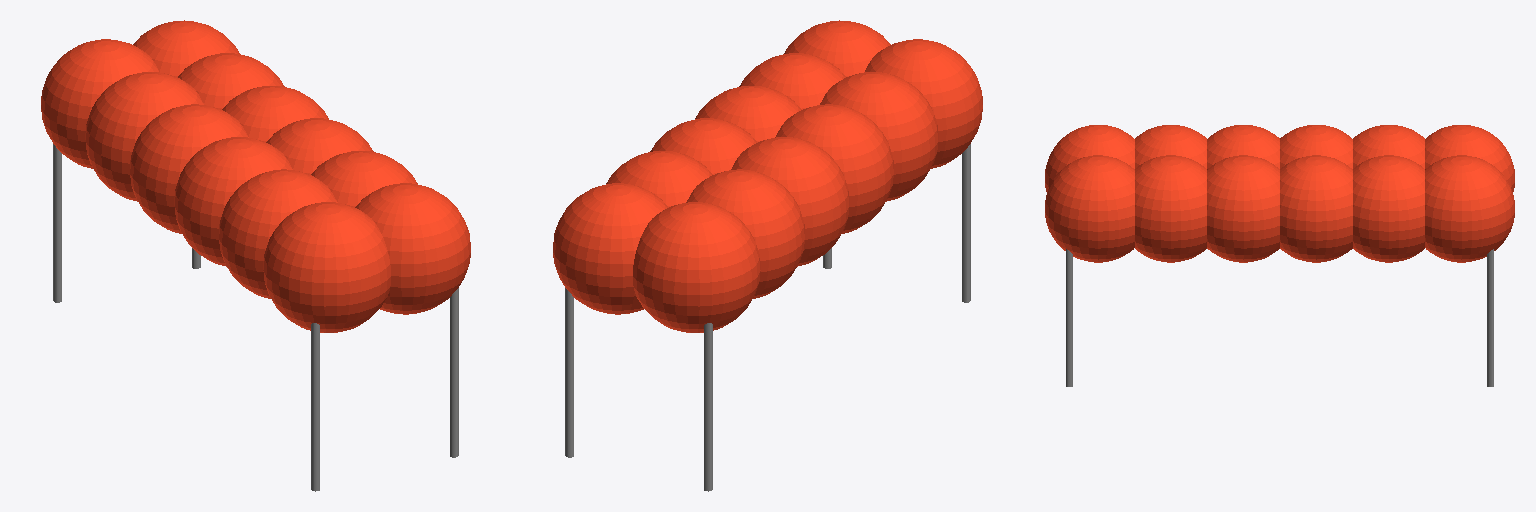
robot.urdf — box:
<?xml version="1.0" ?>
<robot name="box">

  <material name="panda_white">
    <color rgba="1. 0.87 0.68 1."/>
  </material>

  <material name="metal">
    <color rgba="0.6 0.6 0.6 1."/>
  </material>

  <material name="orangered">
    <color rgba="1 0.34 0.2 0.5"/>
  </material>

  <link name="link1">
    <inertial>
      <origin rpy="0 0 0" xyz="0 0 0"/>
       <mass value=".0"/>
       <inertia ixx="0" ixy="0" ixz="0" iyy="0" iyz="0" izz="0"/>
    </inertial>

    <visual>
      <origin rpy="0 0 0" xyz="0.0 0 0.25"/>
      <geometry>
        <box size="0.2 0.6 0.005"/>
      </geometry>
      <material name="panda_white"/>
    </visual>
  </link>

  <link name="link2">
    <inertial>
      <origin rpy="0 0 0" xyz="0 0 0"/>
       <mass value=".0"/>
       <inertia ixx="0" ixy="0" ixz="0" iyy="0" iyz="0" izz="0"/>
    </inertial>

    <visual>
      <origin rpy="0 0 0" xyz="0.09 0.29 0.125"/>
      <geometry>
        <cylinder radius="0.005" length="0.25"/>
      </geometry>
      <material name="metal"/>
    </visual>

    <visual>
      <origin rpy="0 0 0" xyz="0.09 -0.29 0.125"/>
      <geometry>
        <cylinder radius="0.005" length="0.25"/>
      </geometry>
      <material name="metal"/>
    </visual>

    <visual>
      <origin rpy="0 0 0" xyz="-0.09 0.29 0.125"/>
      <geometry>
        <cylinder radius="0.005" length="0.25"/>
      </geometry>
      <material name="metal"/>
    </visual>

    <visual>
      <origin rpy="0 0 0" xyz="-0.09 -0.29 0.125"/>
      <geometry>
        <cylinder radius="0.005" length="0.25"/>
      </geometry>
      <material name="metal"/>
    </visual>
  </link>

  <link name="link3">
    <inertial>
      <origin rpy="0 0 0" xyz="0 0 0"/>
       <mass value=".0"/>
       <inertia ixx="0" ixy="0" ixz="0" iyy="0" iyz="0" izz="0"/>
    </inertial>

    <visual>
      <origin rpy="0 0 0" xyz="0.05 -0.25 0.25"/>
      <geometry>
        <sphere radius="0.074"/>
      </geometry>
      <material name="orangered"/>
    </visual>

    <visual>
      <origin rpy="0 0 0" xyz="-0.05 -0.25 0.25"/>
      <geometry>
        <sphere radius="0.074"/>
      </geometry>
      <material name="orangered"/>
    </visual>

    <visual>
      <origin rpy="0 0 0" xyz="0.05 -0.15 0.25"/>
      <geometry>
        <sphere radius="0.074"/>
      </geometry>
      <material name="orangered"/>
    </visual>

    <visual>
      <origin rpy="0 0 0" xyz="-0.05 -0.15 0.25"/>
      <geometry>
        <sphere radius="0.074"/>
      </geometry>
      <material name="orangered"/>
    </visual>

    <visual>
      <origin rpy="0 0 0" xyz="0.05 -0.05 0.25"/>
      <geometry>
        <sphere radius="0.074"/>
      </geometry>
      <material name="orangered"/>
    </visual>

    <visual>
      <origin rpy="0 0 0" xyz="-0.05 -0.05 0.25"/>
      <geometry>
        <sphere radius="0.074"/>
      </geometry>
      <material name="orangered"/>
    </visual>

    <visual>
      <origin rpy="0 0 0" xyz="0.05 0.05 0.25"/>
      <geometry>
        <sphere radius="0.074"/>
      </geometry>
      <material name="orangered"/>
    </visual>

    <visual>
      <origin rpy="0 0 0" xyz="-0.05 0.05 0.25"/>
      <geometry>
        <sphere radius="0.074"/>
      </geometry>
      <material name="orangered"/>
    </visual>

    <visual>
      <origin rpy="0 0 0" xyz="0.05 0.15 0.25"/>
      <geometry>
        <sphere radius="0.074"/>
      </geometry>
      <material name="orangered"/>
    </visual>

    <visual>
      <origin rpy="0 0 0" xyz="-0.05 0.15 0.25"/>
      <geometry>
        <sphere radius="0.074"/>
      </geometry>
      <material name="orangered"/>
    </visual>

    <visual>
      <origin rpy="0 0 0" xyz="0.05 0.25 0.25"/>
      <geometry>
        <sphere radius="0.074"/>
      </geometry>
      <material name="orangered"/>
    </visual>

    <visual>
      <origin rpy="0 0 0" xyz="-0.05 0.25 0.25"/>
      <geometry>
        <sphere radius="0.074"/>
      </geometry>
      <material name="orangered"/>
    </visual>
    
  </link>

  <joint name="fixed_joint" type="fixed">
    <parent link="link1"/>
    <child link="link2"/>
    <origin xyz="0 0 0" rpy="0 0 0"/>
  </joint>

  <joint name="fixed_joint_2" type="fixed">
    <parent link="link1"/>
    <child link="link3"/>
    <origin xyz="0 0 0" rpy="0 0 0"/>
  </joint>


</robot>

--- What the picture shows (computed from the rendered views, not written in the file) ---
3 views of the same robot in one strip: view 1: azimuth 30°, elevation 25°; view 2: azimuth 150°, elevation 25°; view 3: azimuth 270°, elevation 25° (orthographic).
Model box with 3 links and 2 joints (2 fixed), rooted at link1, posed all joints at 0.
Links seen in each view (by area): view 1: link3, link2; view 2: link3, link2; view 3: link3, link2.
Link boxes in pixels (bbox=[...]): link3: bbox=[41, 20, 470, 332]; link2: bbox=[53, 144, 458, 491]; link3: bbox=[553, 20, 982, 332]; link2: bbox=[565, 144, 970, 491]; link3: bbox=[1045, 125, 1514, 262]; link2: bbox=[1066, 249, 1493, 386].
Size in the robot's own frame: 0.248 by 0.648 by 0.324 metres.
Geometry: primitives only (box / cylinder / sphere), no mesh files.